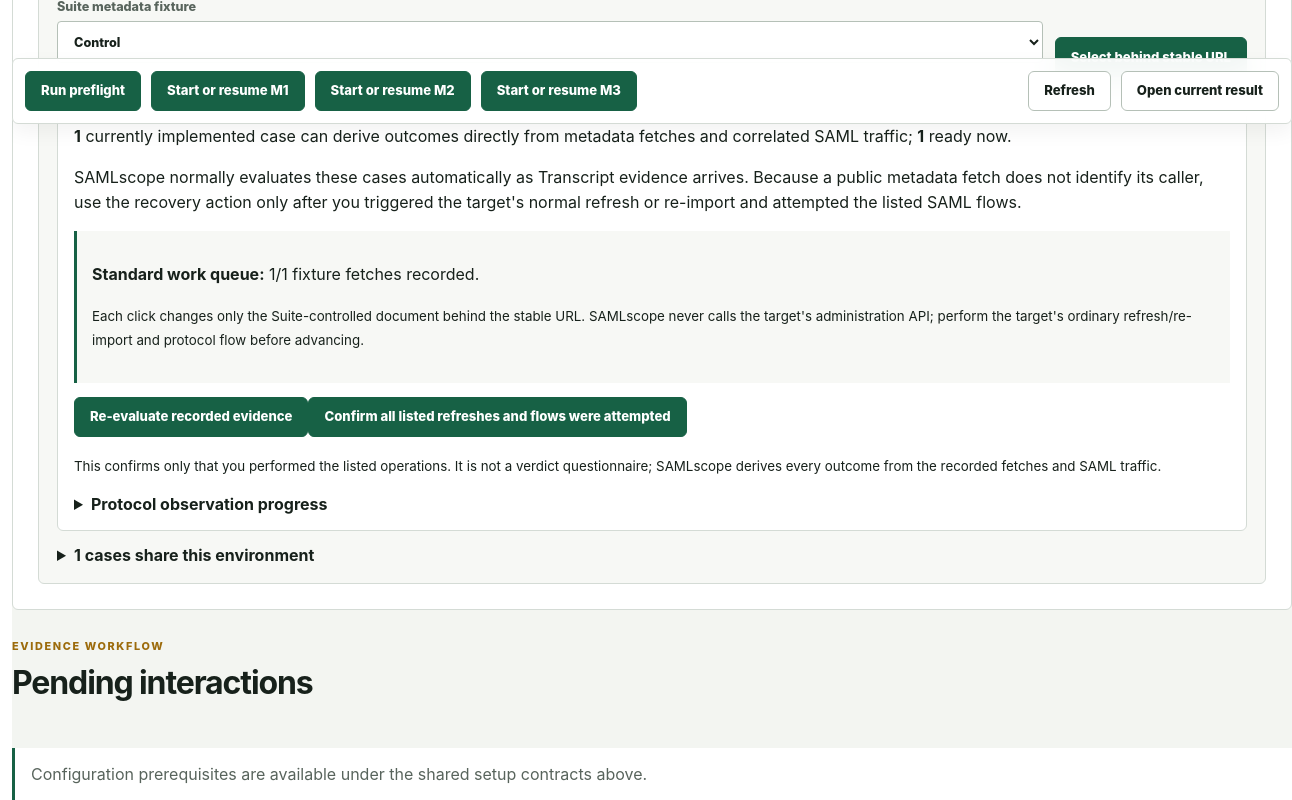
evaluates only server-reported ready protocol evidence from the shared metadata contract
(page scrolled)
Click the button "Re-evaluate recorded evidence": (191, 417) [74, 397, 308, 437]
(page scrolled)
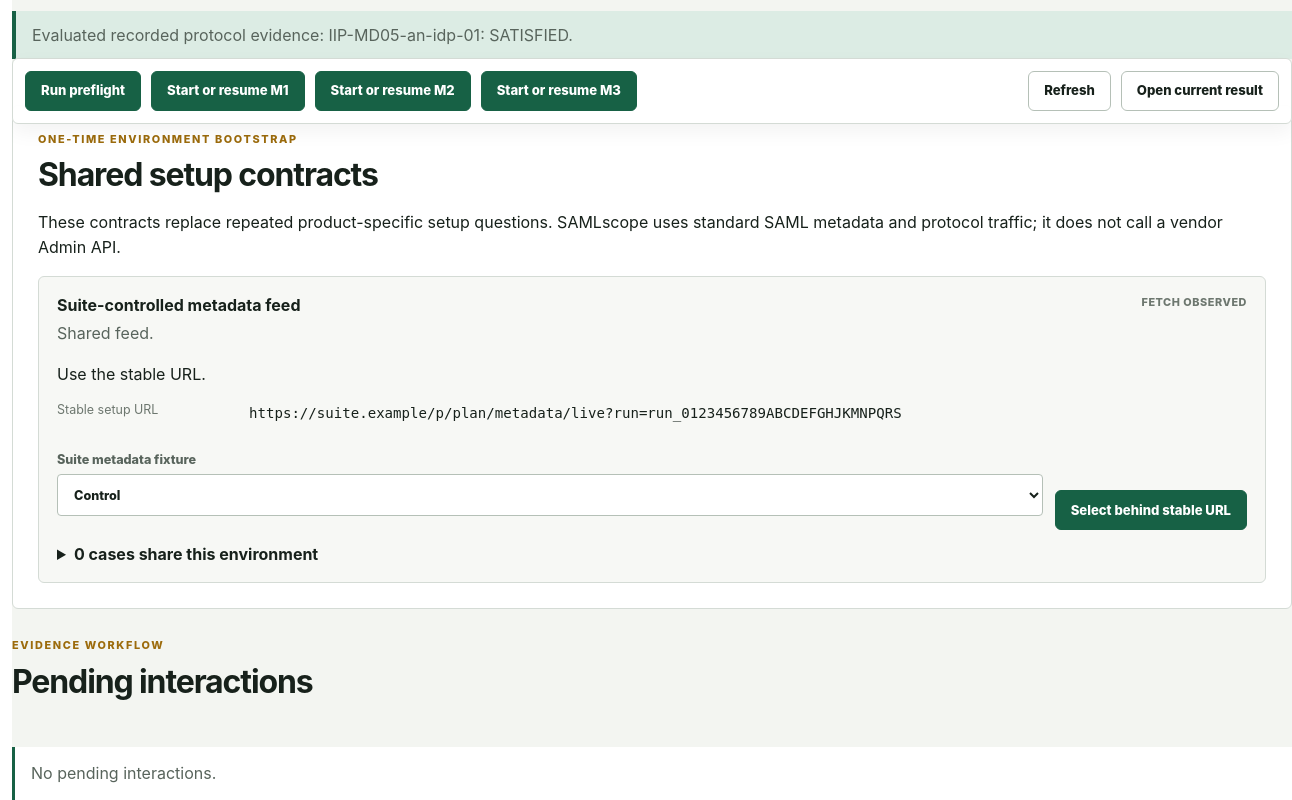
Expected: the text "Evaluated recorded protocol evidence: IIP-MD05-an-idp-01: SATISFIED." is shown, [12, 11, 1291, 59]
